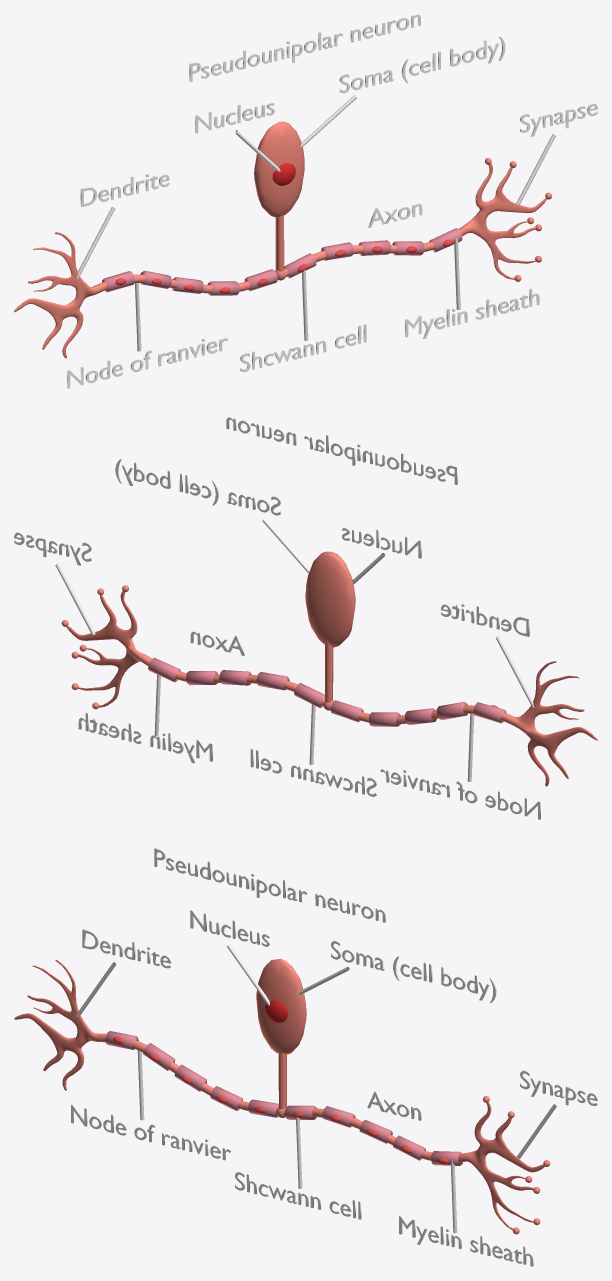
Rendered from sensory-neuron-lite.glb.
3 views of the same model, one above another, from view 1: azimuth 30°, elevation 25°; view 2: azimuth 150°, elevation 25°; view 3: azimuth 330°, elevation 25° (orthographic).
Parts seen in each view (by area): view 1: Object_24, Object_4, Object_10, Object_8, Object_6; view 2: Object_24, Object_4, Object_8, Object_10; view 3: Object_24, Object_4, Object_8, Object_10, Object_6.
Part boxes in pixels (left/top/right/bottom): Object_24: left=67, top=14, right=597, bottom=388; Object_4: left=14, top=158, right=551, bottom=358; Object_10: left=254, top=121, right=304, bottom=271; Object_8: left=102, top=228, right=462, bottom=295; Object_6: left=115, top=239, right=453, bottom=293; Object_24: left=14, top=417, right=540, bottom=819; Object_4: left=61, top=585, right=597, bottom=786; Object_8: left=148, top=657, right=506, bottom=726; Object_10: left=305, top=551, right=355, bottom=702; Object_24: left=71, top=848, right=597, bottom=1266; Object_4: left=14, top=959, right=550, bottom=1234; Object_8: left=105, top=1031, right=462, bottom=1165; Object_10: left=256, top=958, right=306, bottom=1109; Object_6: left=113, top=1036, right=448, bottom=1164.
Size of the model in its own units: 23.57 by 13.35 by 1.72.
